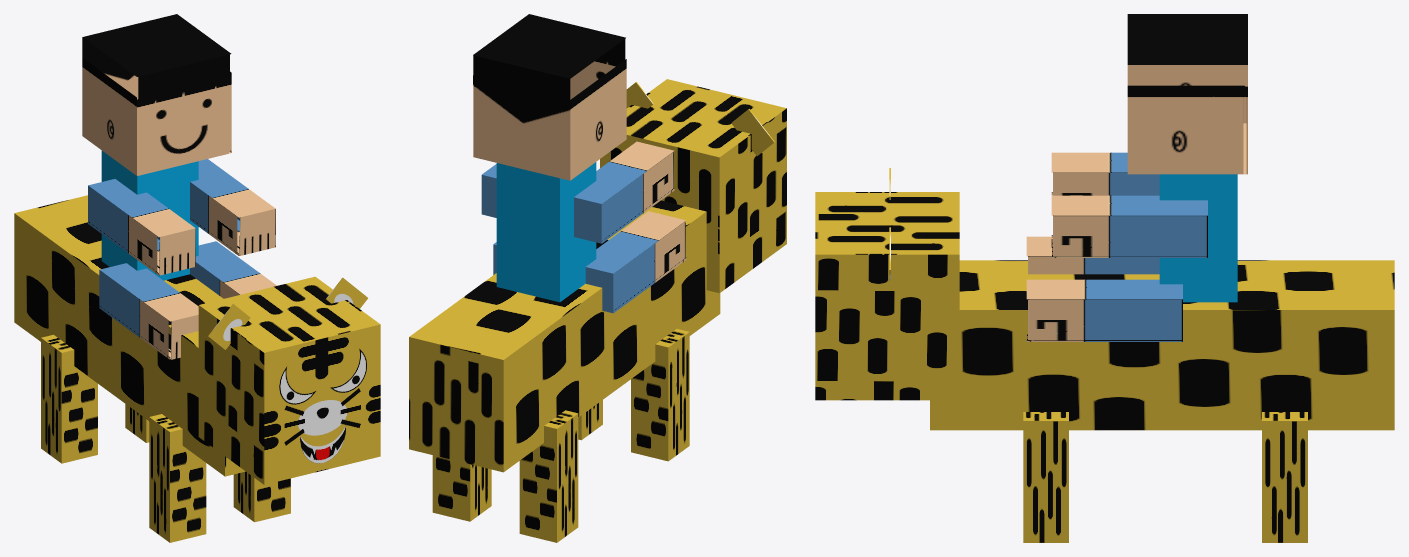
The model's file is Tiger.FBX.
3 views of the same model, side by side, from view 1: azimuth 30°, elevation 25°; view 2: azimuth 150°, elevation 25°; view 3: azimuth 270°, elevation 25° (orthographic). The views are drawn at different scales.
Visible parts, largest first — view 1: Face, TigerBody, Head, RightHand, RightFrontLeg, RightBackLeg, RightLeg, LeftHand, HumanBody, LeftLeg, LeftFrontLeg, Leftyear (+2 smaller); view 2: TigerBody, Head, Face, HumanBody, RightHand, RightBackLeg, RightFrontLeg, RightLeg, LeftBackLeg, Leftyear, LeftHand, LeftFrontLeg (+1 smaller); view 3: TigerBody, Face, Head, LeftLeg, LeftHand, HumanBody, LeftBackLeg, LeftFrontLeg, RightHand, RightLeg.
Part boxes in pixels (x1,y1,x2,y2): Face: (198,276,380,484); TigerBody: (14,195,245,476); Head: (82,14,231,175); RightHand: (88,179,195,275); RightFrontLeg: (149,414,206,542); RightBackLeg: (41,334,97,463); RightLeg: (99,263,198,359); LeftHand: (190,159,275,255); HumanBody: (101,150,198,280); LeftLeg: (190,241,276,298); LeftFrontLeg: (233,471,290,522); Leftyear: (208,304,250,349); TigerBody: (409,200,720,472); Head: (473,14,626,180); Face: (600,79,786,293); HumanBody: (496,162,596,302); RightHand: (574,141,674,243); RightBackLeg: (519,410,578,542); RightFrontLeg: (631,329,689,461); RightLeg: (585,211,686,313); LeftBackLeg: (432,455,491,521); Leftyear: (731,109,774,155); LeftHand: (481,164,496,217); LeftFrontLeg: (578,400,602,440); TigerBody: (930,260,1394,430); Face: (815,192,959,400); Head: (1127,14,1247,174); LeftLeg: (1026,279,1182,341); LeftHand: (1051,195,1207,257); HumanBody: (1159,174,1237,302); LeftBackLeg: (1262,412,1307,542); LeftFrontLeg: (1023,412,1068,542); RightHand: (1051,152,1159,195); RightLeg: (1026,236,1159,274).
Bounding box in the file's own units: 1.3 × 3.33 × 3.7.
Materials: 6 (6 with a texture image).
